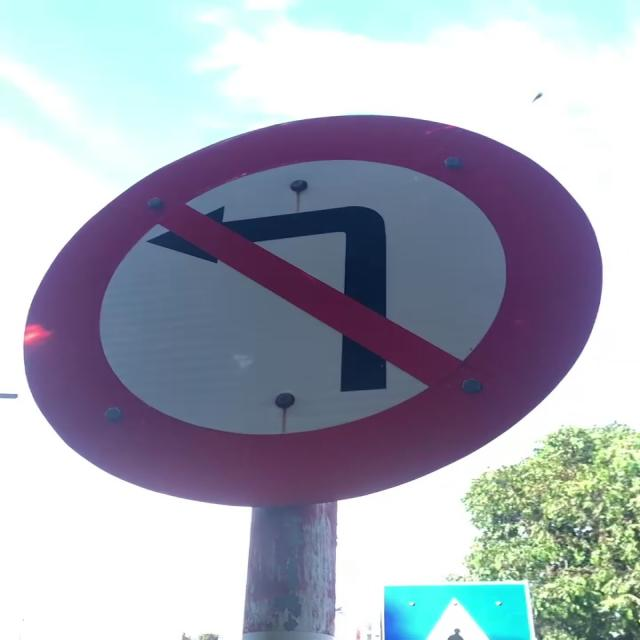Cam_Re_Trai: (23, 107, 605, 515)
